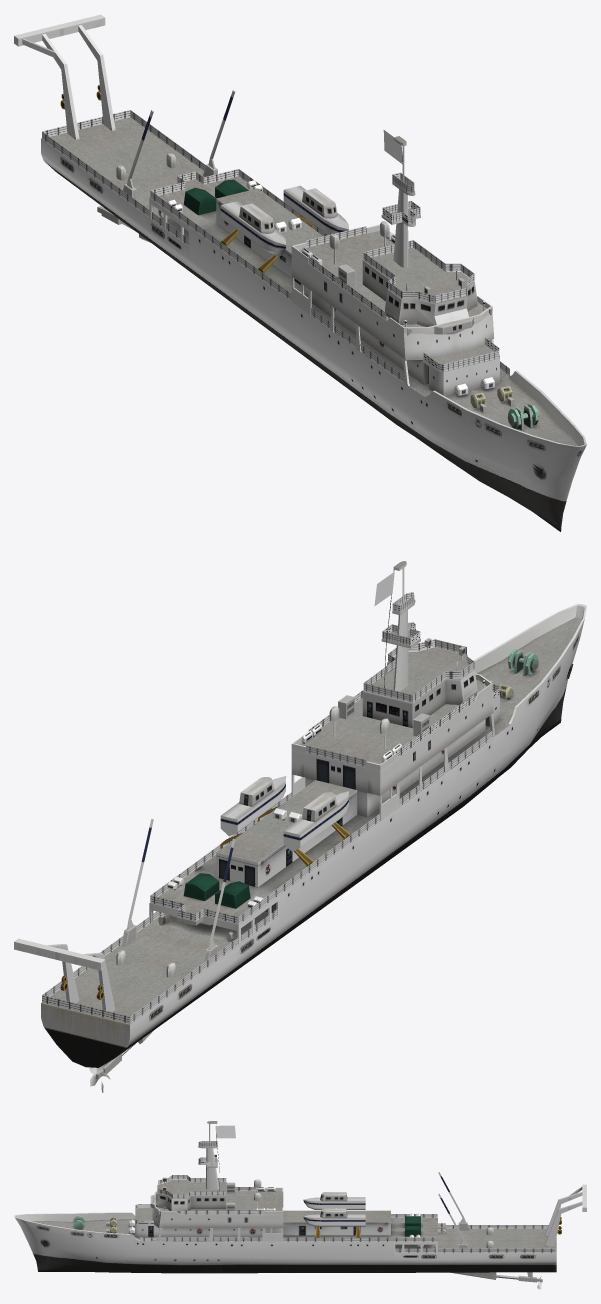
The model's file is ship.glb.
3 views of the same model, one above another, from view 1: azimuth 30°, elevation 25°; view 2: azimuth 150°, elevation 25°; view 3: azimuth 270°, elevation 25° (orthographic). The views are drawn at different scales.
Parts seen in each view (by area): view 1: mesh_Object04; view 2: mesh_Object04; view 3: mesh_Object04, Default.
Part boxes in pixels (<box>): mesh_Object04: <box>14,14,586,531</box>; mesh_Object04: <box>14,561,586,1092</box>; mesh_Object04: <box>14,1121,586,1289</box>; Default: <box>215,1125,235,1190</box>.
Size of the model in its own units: 8.71 by 28.83 by 88.98.
Materials: 3 (3 with a texture image).
